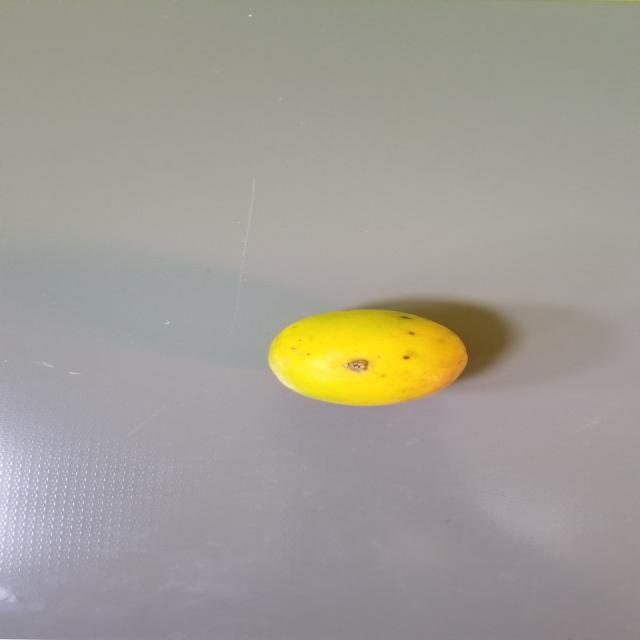agrume: (252, 300, 500, 414)
